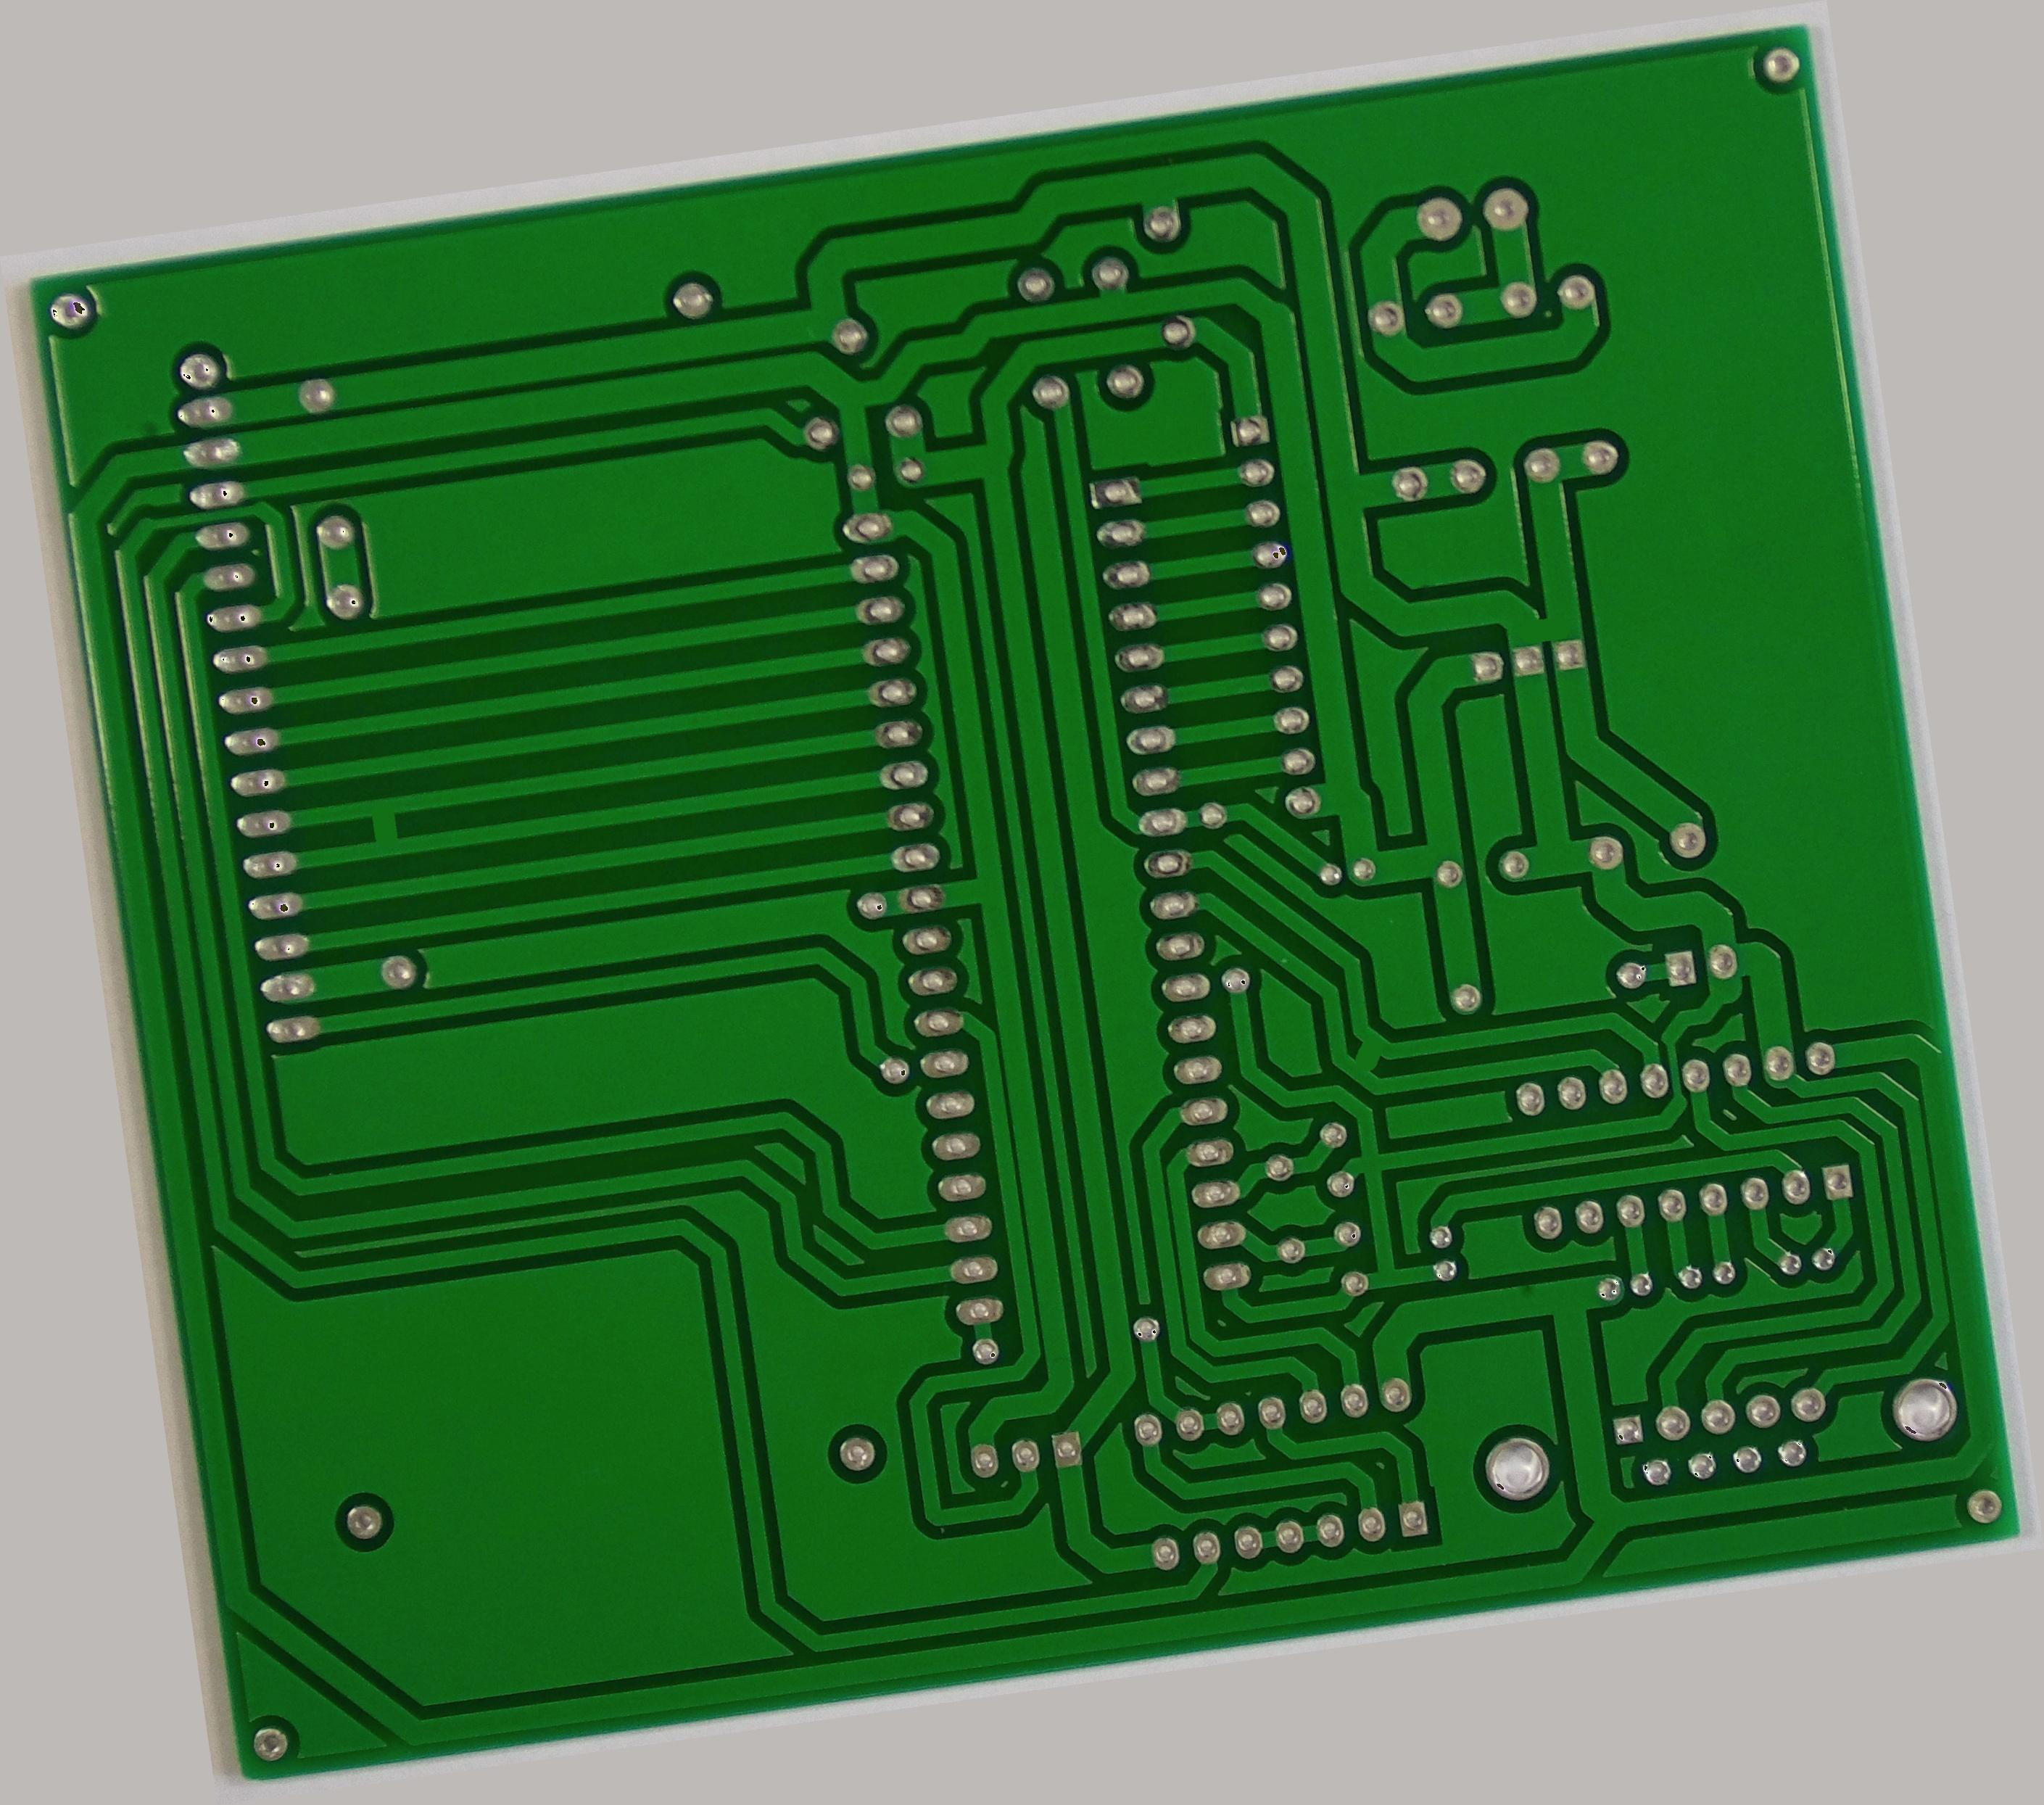short: (1330, 1017, 1406, 1091), (347, 789, 418, 864), (1513, 596, 1579, 659)
